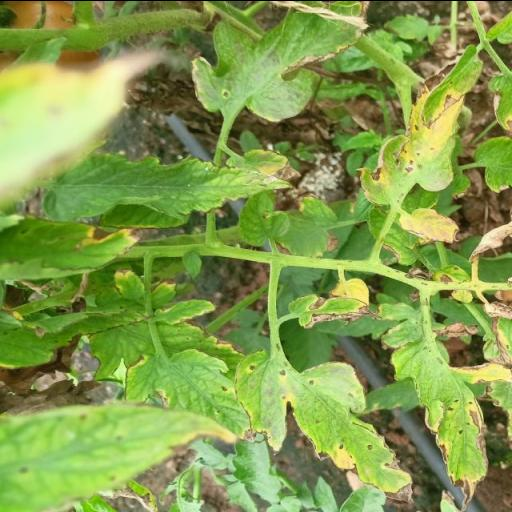Early Blight: (232, 346, 416, 508), (378, 302, 489, 512), (352, 38, 483, 208), (124, 346, 254, 442)
